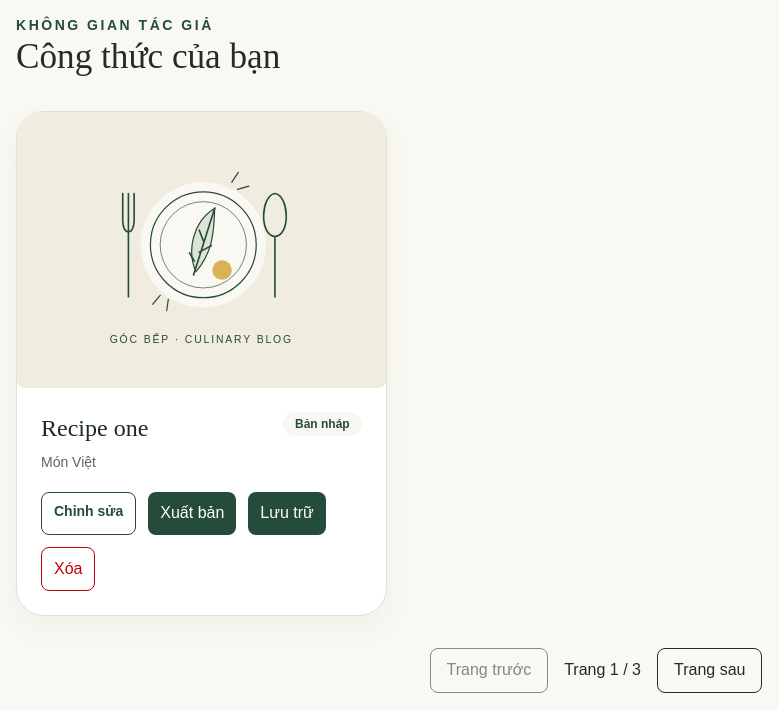
Scenario: dashboard ignores a stale successful page response
The image size is (779, 710).
Click the button "Trang sau".
click(710, 670)  # box [657,648,762,693]
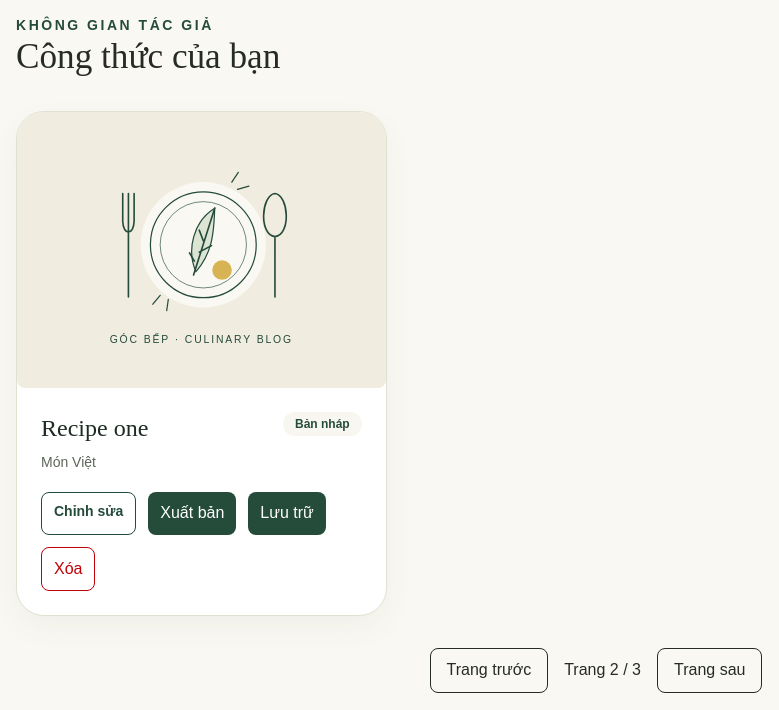
Click the button "Trang sau".
click(710, 670)  # box [657,648,762,693]
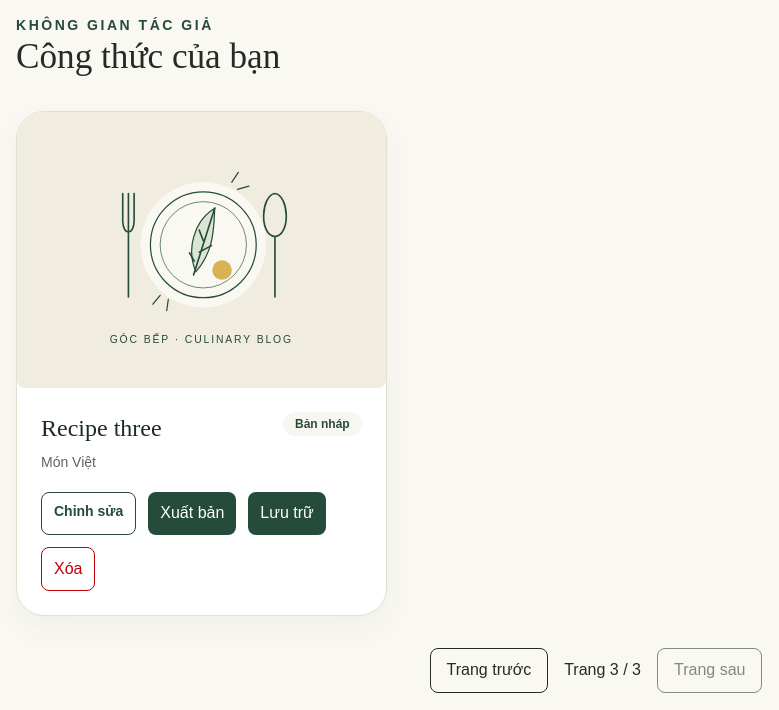
Check: the text "Recipe three" is shown, box [41,412,162,444]
Check: the text "Trang 3 / 3" is shown, box [564,657,641,684]
